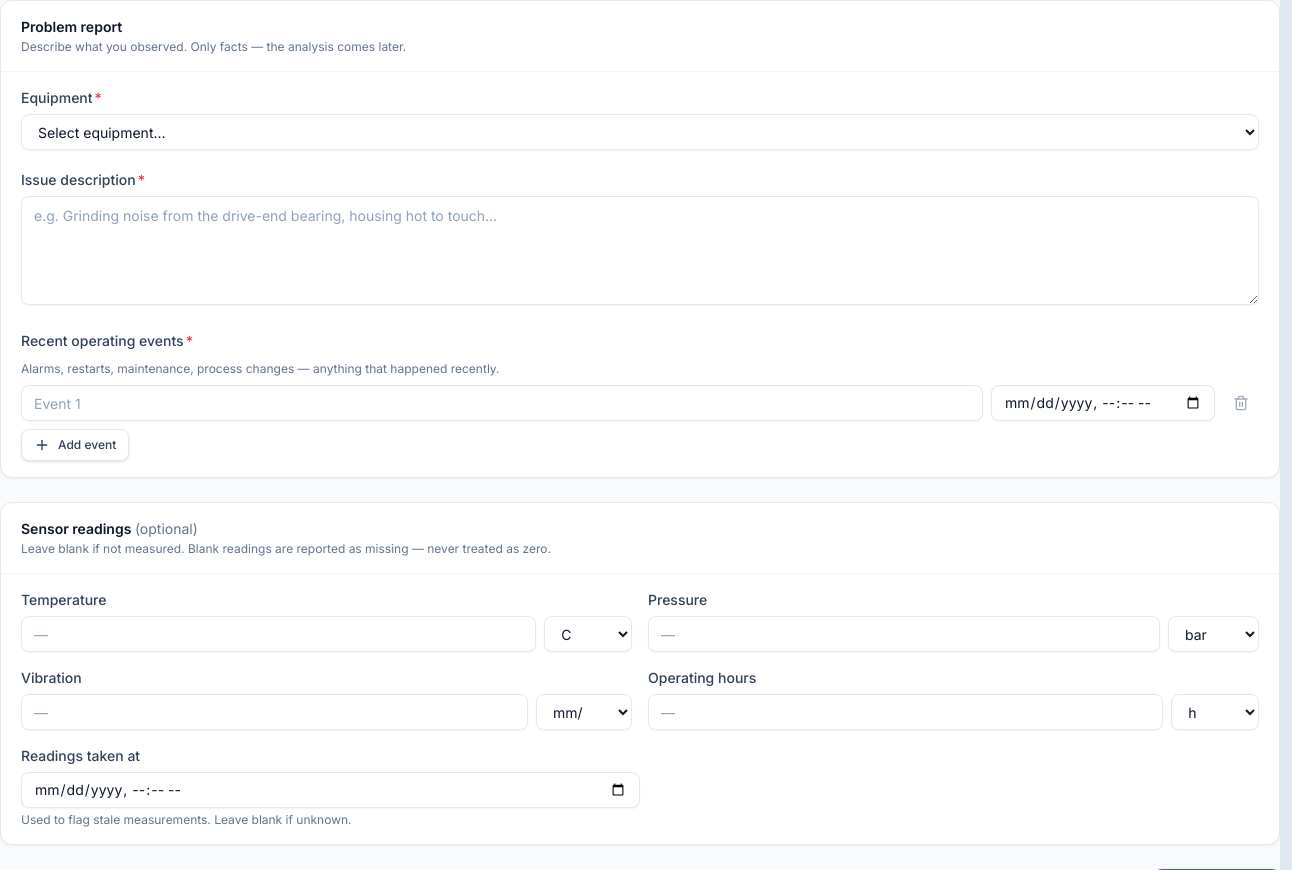
IssueForm validation › can add and remove operating events
This screenshot has width=1292, height=870.
Click the button "Add event": [75, 445] box 21,429 -> 129,461
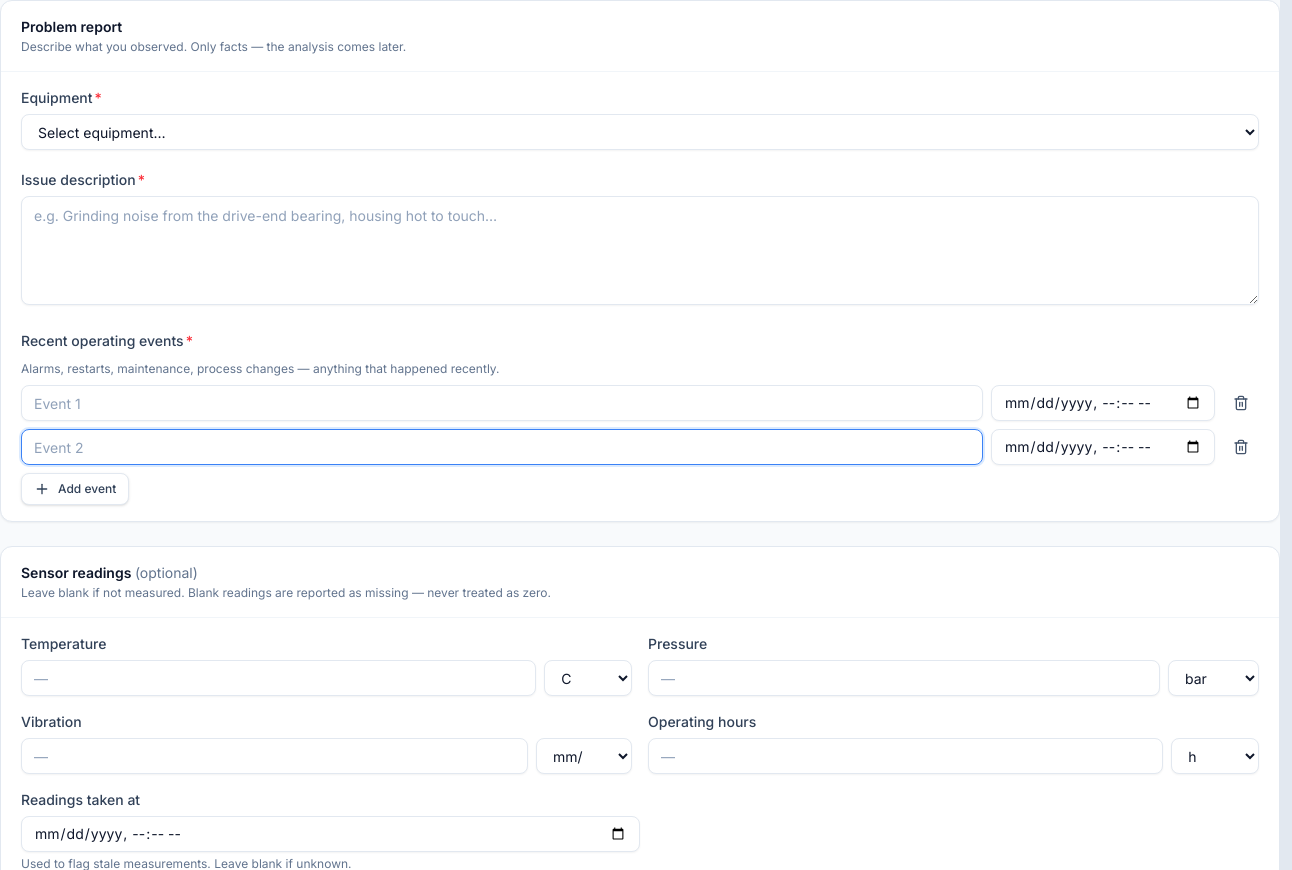
Now the field named "Operating event 2" is shown, box 21,429 -> 983,465
Click the button named "Remove event 2": [1241, 447] box 1223,429 -> 1259,465
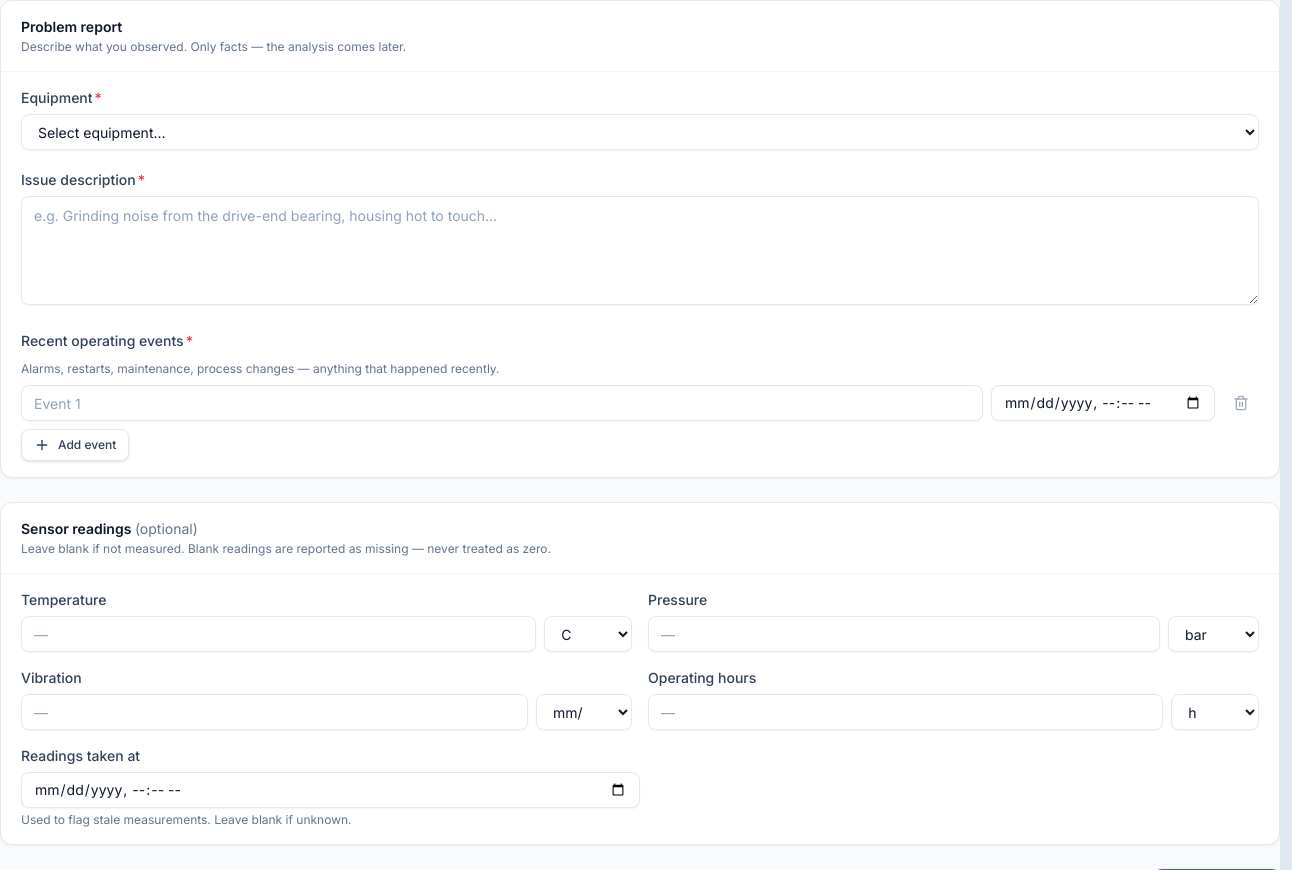
Now the button named "Remove event 1" is disabled, box 1223,385 -> 1259,421
